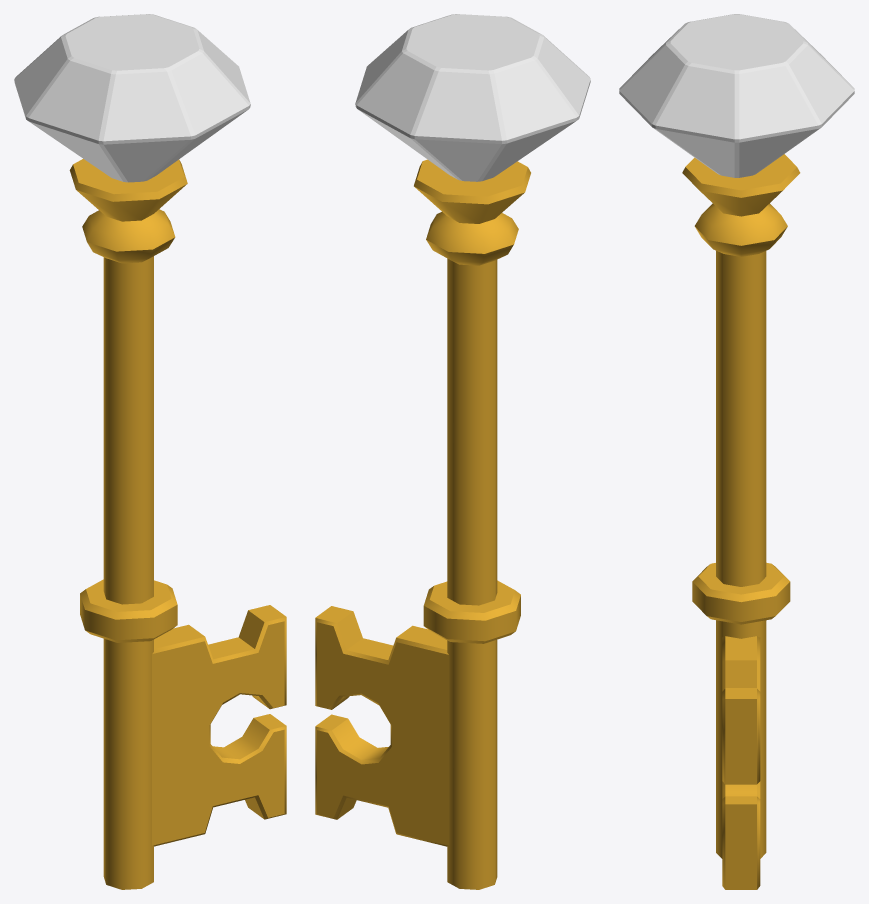
The model's file is Key.fbx.
3 renders of one model, left to right at view 1: azimuth 30°, elevation 25°; view 2: azimuth 150°, elevation 25°; view 3: azimuth 270°, elevation 25°, orthographic. The views are drawn at different scales.
Parts seen in each view (by area): view 1: Key, Crystal; view 2: Key, Crystal; view 3: Key, Crystal.
Boxes of the visible parts, x1,y1,x2,y2 form: Key: (69, 159, 286, 889); Crystal: (14, 14, 250, 182); Key: (315, 159, 530, 889); Crystal: (355, 14, 590, 181); Key: (682, 154, 800, 889); Crystal: (619, 14, 854, 177).
Bounding box in the file's own units: 162 × 512 × 135.
